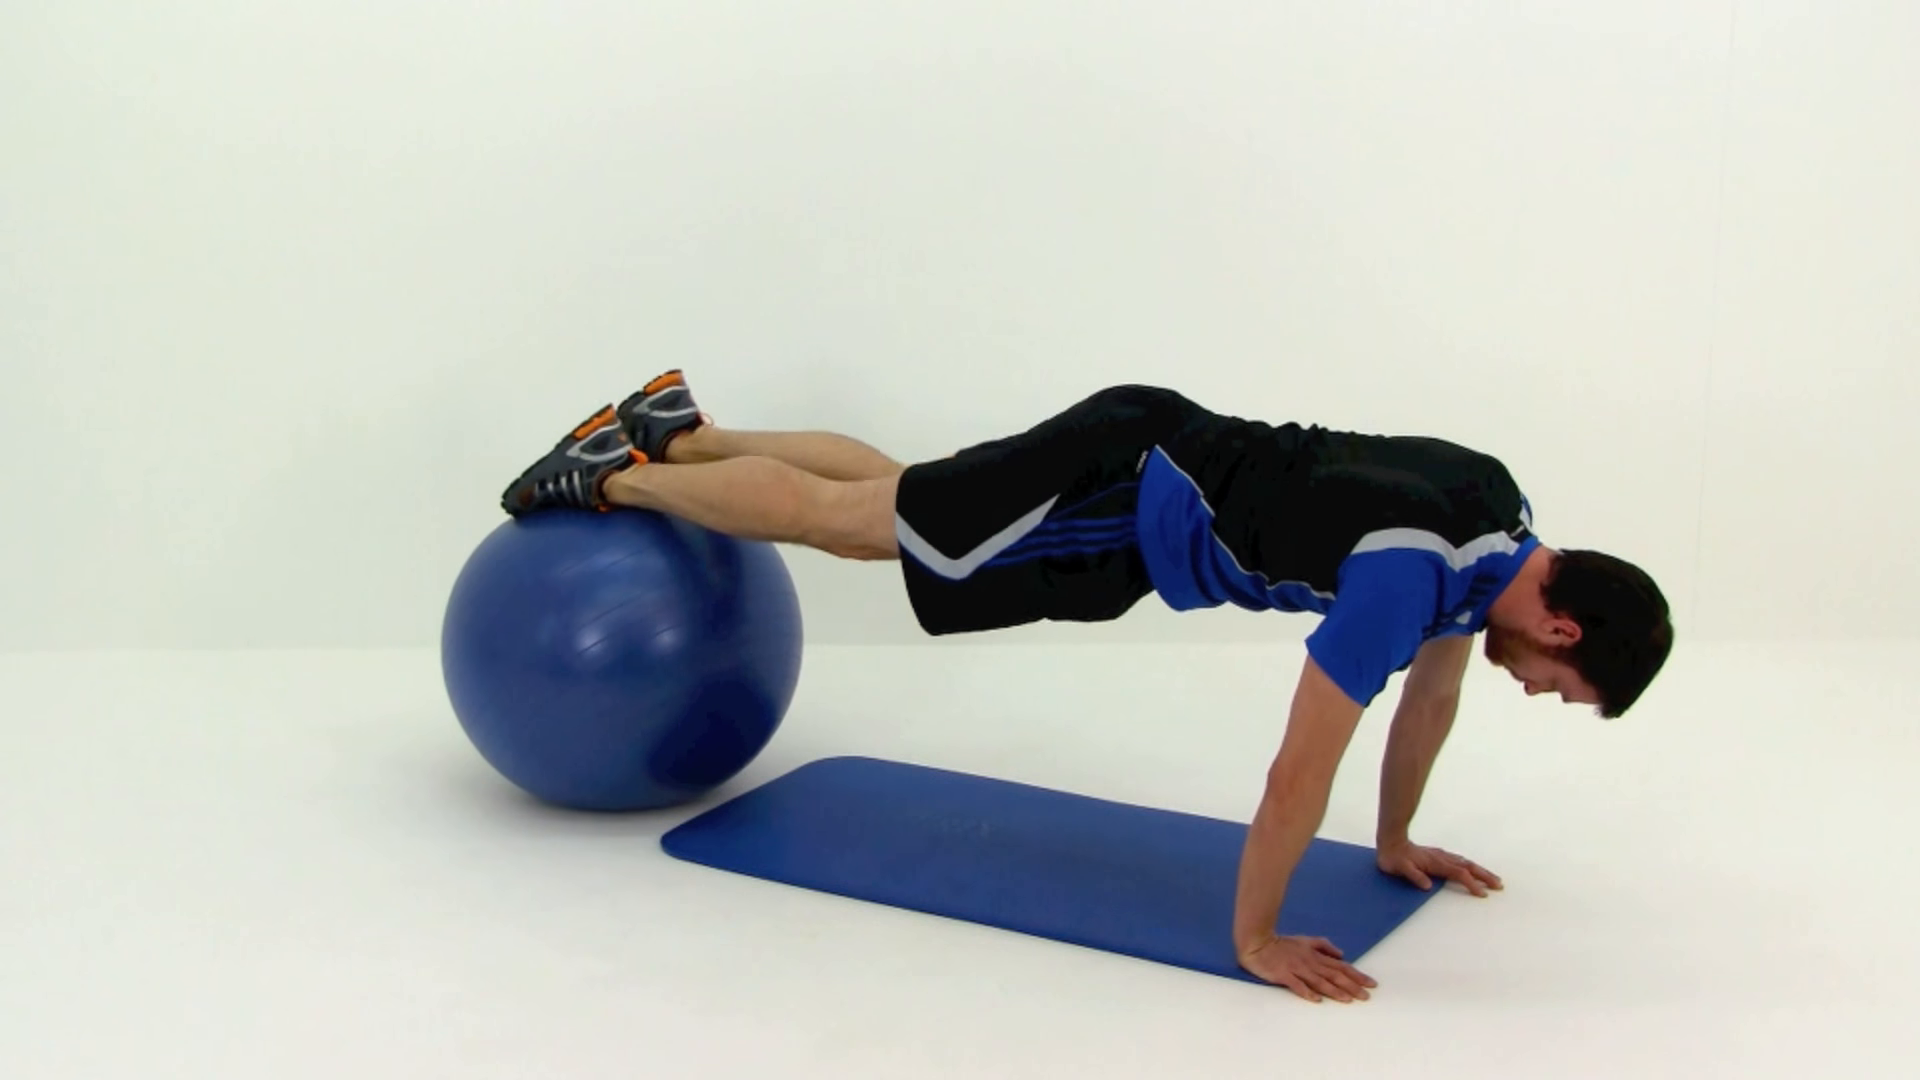yogaball: (425, 492, 819, 827)
